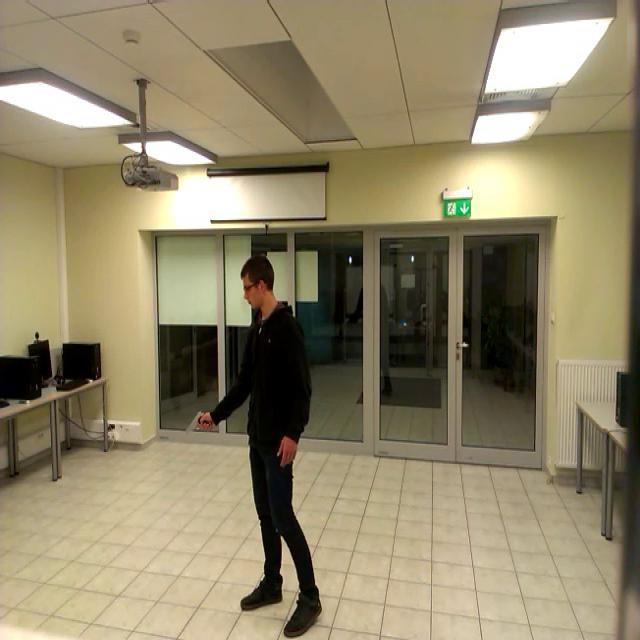Gun: (184, 409, 212, 434)
